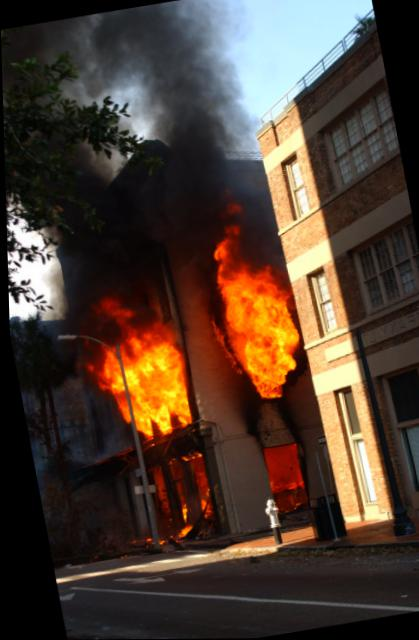fire: (199, 200, 305, 407), (87, 307, 196, 441), (140, 454, 217, 544)
